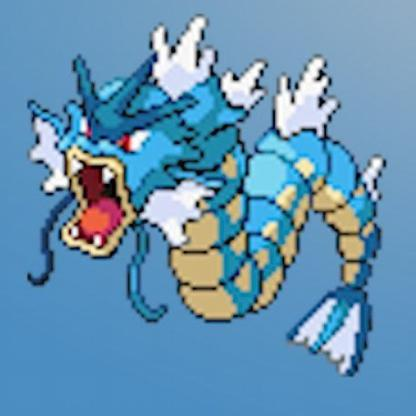Gyarados: (1, 15, 389, 386)
